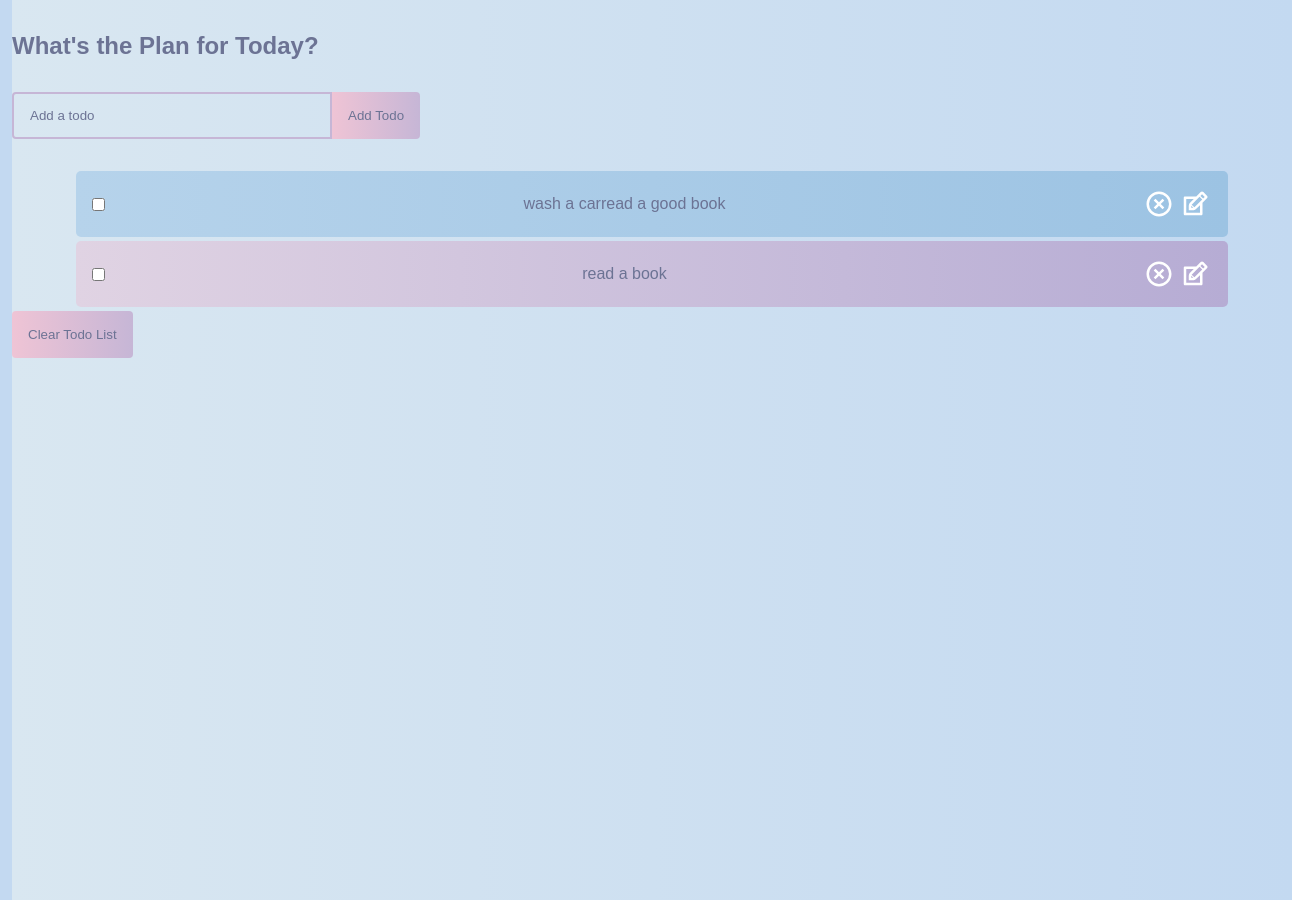
Test case: Delete existing task
This screenshot has width=1292, height=900.
Step 1. Click the 1st button named "delete" → (1161, 204), box [1144,187,1178,221]
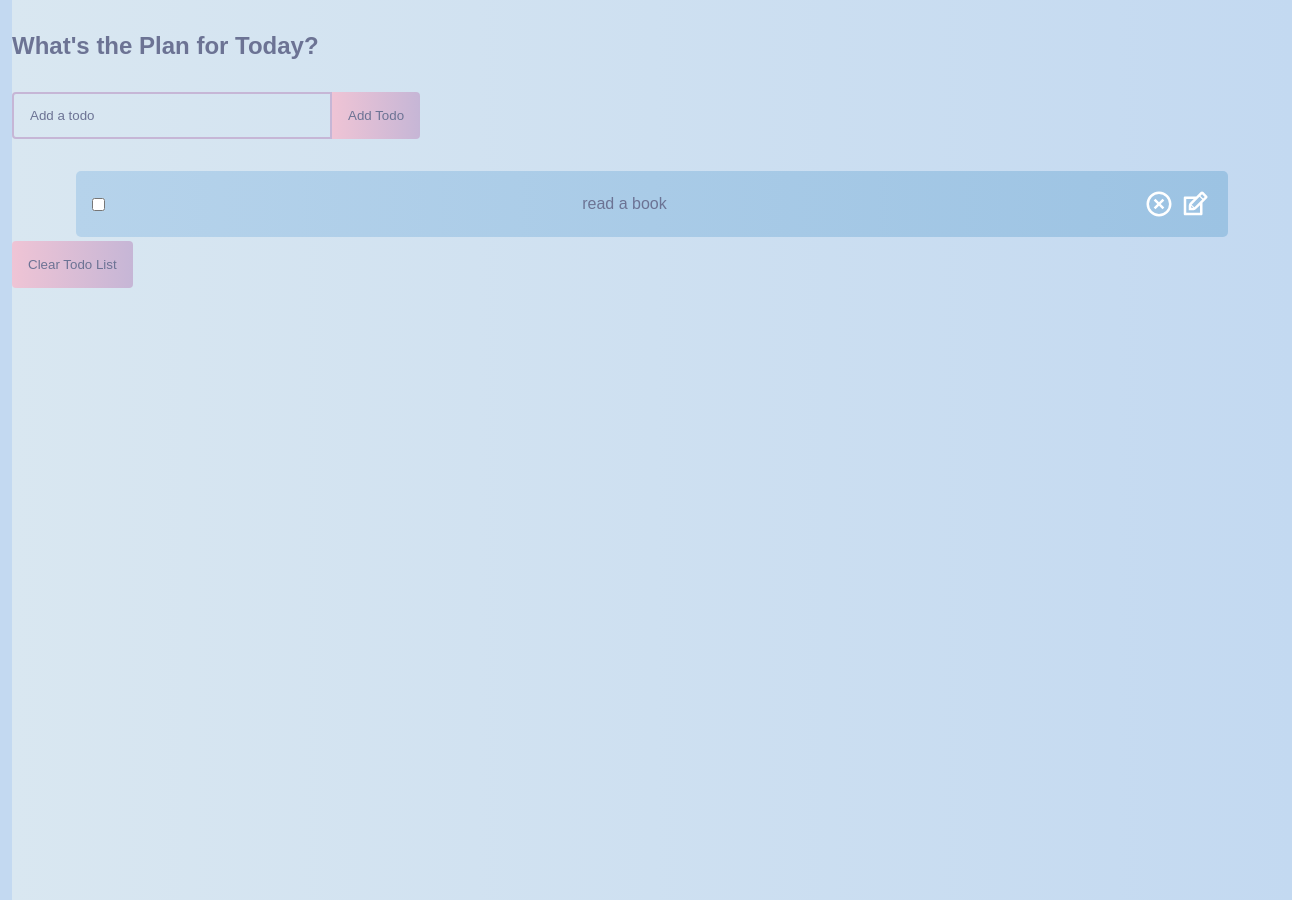
Expected: the label labelled "read a good book" is gone
